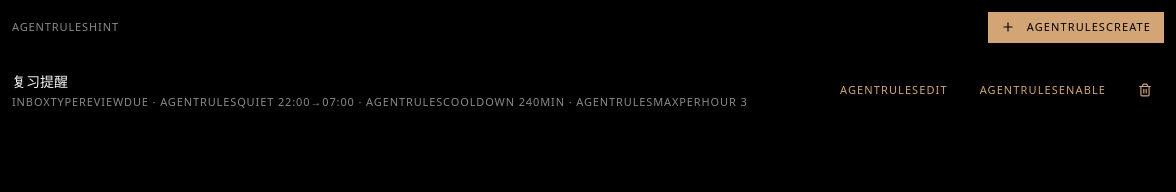
Test: AgentRulesPanel › 删除规则后本地移除
This screenshot has width=1176, height=192.
Check: the text "复习提醒" is shown, box [12,72,68,90]
Click the button named "agentRulesDelete". click: x=1145, y=90
box: [1126,77,1164,103]
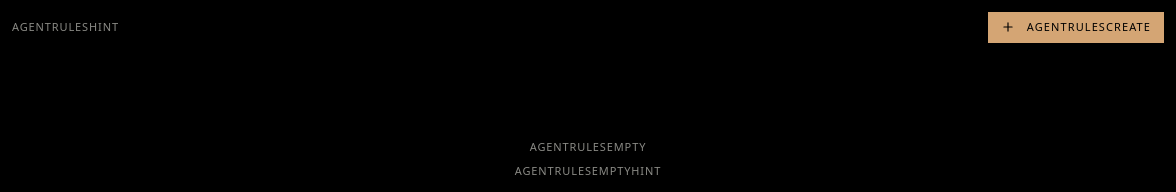
Check: the text "复习提醒" is gone
